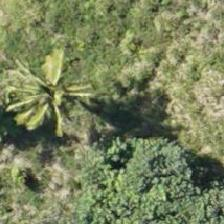coconut_tree: (17, 59, 107, 149)
